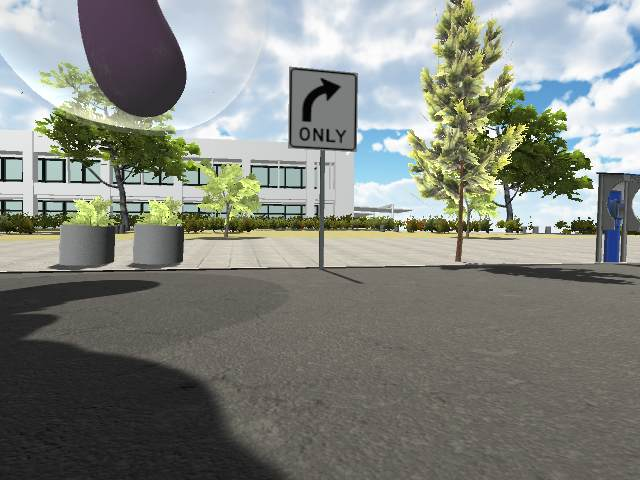arrow_right: (302, 76, 341, 123)
